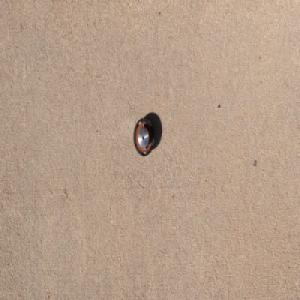FuelCap: (132, 116, 155, 157)
